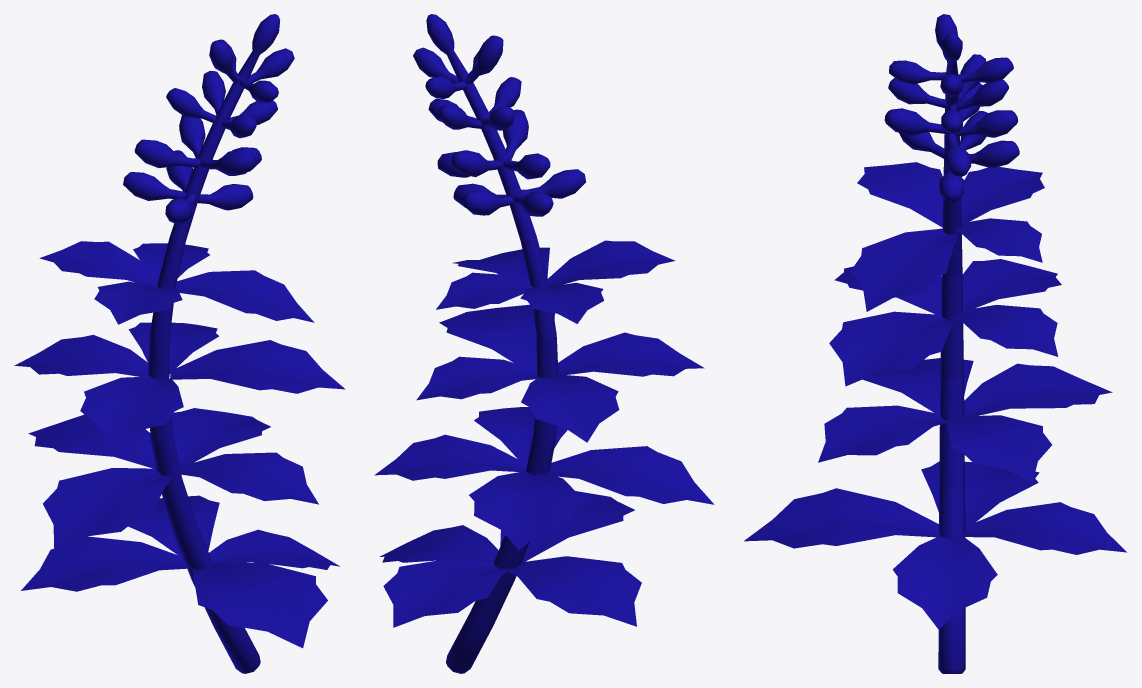
The model's file is SM_Cut_Catnip_01.fbx.
3 views of the same model, side by side, from view 1: azimuth 30°, elevation 25°; view 2: azimuth 150°, elevation 25°; view 3: azimuth 270°, elevation 25° (orthographic).
Parts seen in each view (by area): view 1: SM_Piece_000, SM_Piece_001, SM_Piece_002, SM_Piece_003, SM_Piece_004, SM_Piece_005; view 2: SM_Piece_000, SM_Piece_001, SM_Piece_002, SM_Piece_003, SM_Piece_004, SM_Piece_005; view 3: SM_Piece_000, SM_Piece_001, SM_Piece_002, SM_Piece_003, SM_Piece_004, SM_Piece_005.
Boxes of the visible parts, x1,y1,x2,y2 form: SM_Piece_000: [21, 495, 339, 673]; SM_Piece_001: [28, 408, 318, 550]; SM_Piece_002: [14, 322, 345, 446]; SM_Piece_003: [39, 237, 314, 338]; SM_Piece_004: [123, 70, 277, 241]; SM_Piece_005: [209, 14, 294, 117]; SM_Piece_000: [379, 491, 641, 673]; SM_Piece_001: [374, 407, 714, 549]; SM_Piece_002: [416, 304, 704, 442]; SM_Piece_003: [436, 237, 675, 338]; SM_Piece_004: [428, 77, 585, 241]; SM_Piece_005: [413, 14, 503, 117]; SM_Piece_000: [744, 461, 1127, 673]; SM_Piece_001: [818, 358, 1112, 489]; SM_Piece_002: [829, 259, 1061, 386]; SM_Piece_003: [851, 162, 1044, 311]; SM_Piece_004: [884, 54, 1019, 202]; SM_Piece_005: [889, 14, 1013, 103].
Bounding box in the file's own units: 69.44 × 139 × 73.66.
